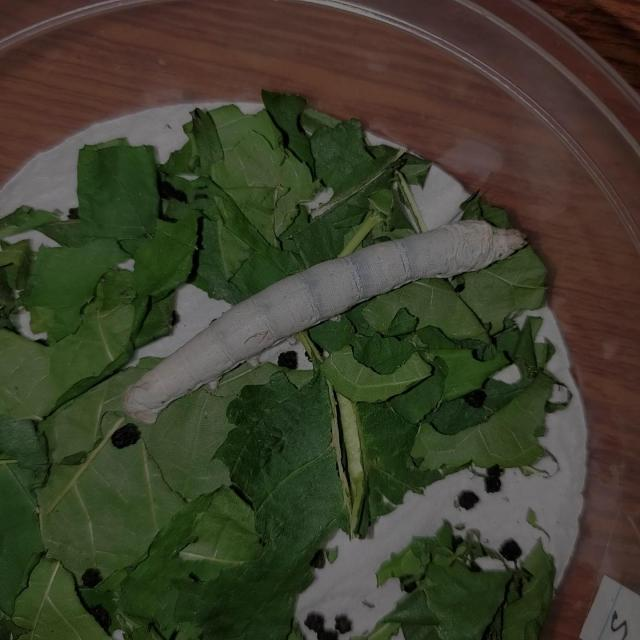Healthy: (110, 205, 533, 429)
